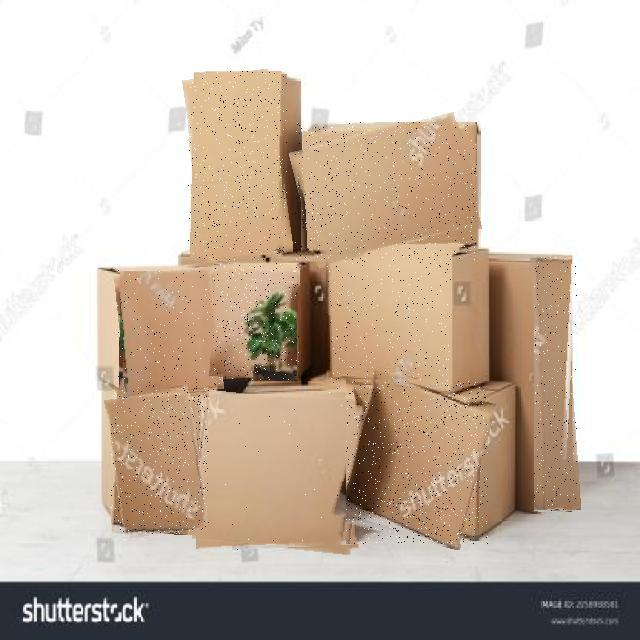BoxFace: (196, 394, 362, 552), (295, 122, 477, 260), (346, 381, 488, 544), (188, 71, 287, 260), (326, 250, 452, 396), (111, 388, 209, 535), (117, 269, 221, 396), (534, 256, 577, 512), (212, 263, 299, 380)
